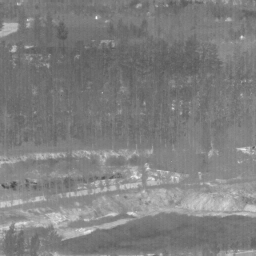aircraft: (102, 92, 104, 94)
